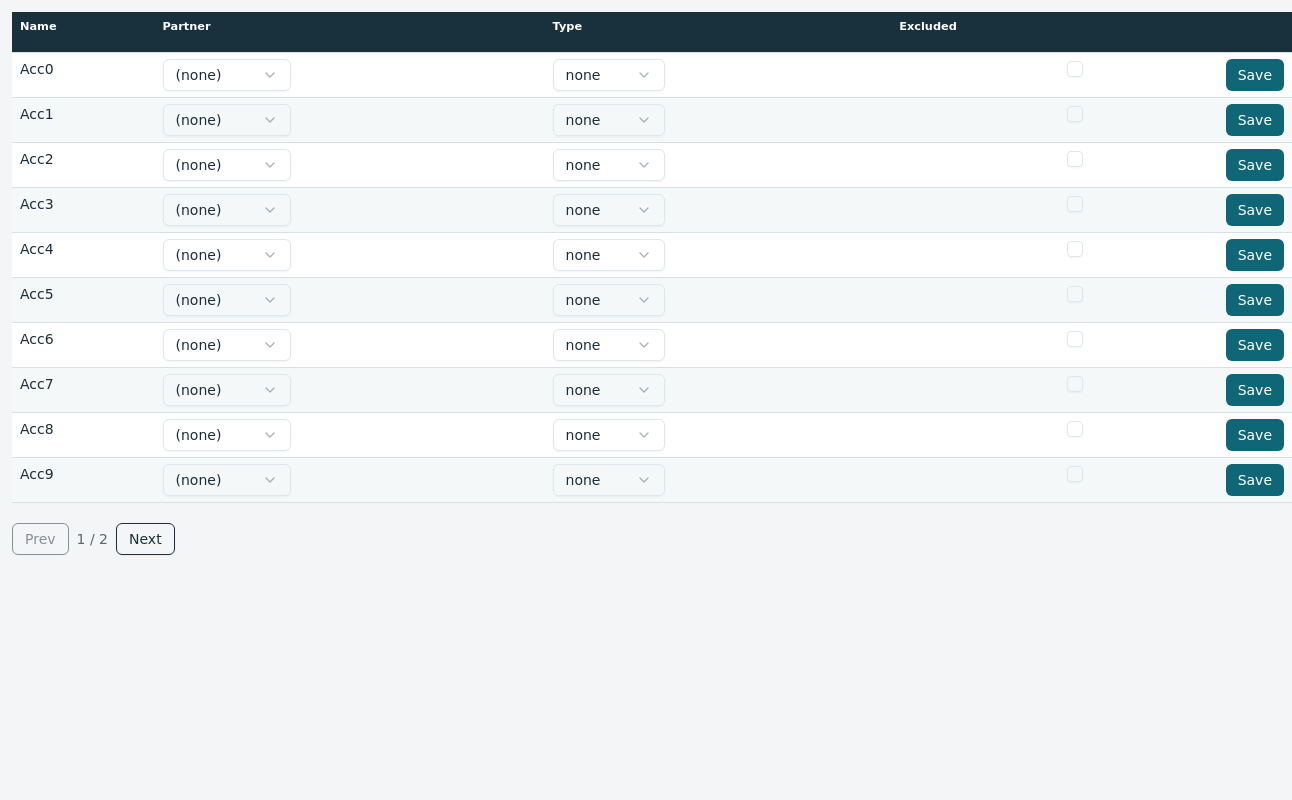
Test: AccountTable — pagination › prev disabled on page 1, next advances
The width and height of the screenshot is (1292, 800).
Check: the text "Acc0" is shown, box top-left (12, 52), bottom-right (154, 97)
Check: the button "Prev" is disabled, box top-left (12, 522), bottom-right (68, 554)
Click the button "Next". click: {"x": 145, "y": 538}
box: top-left (116, 522), bottom-right (175, 554)
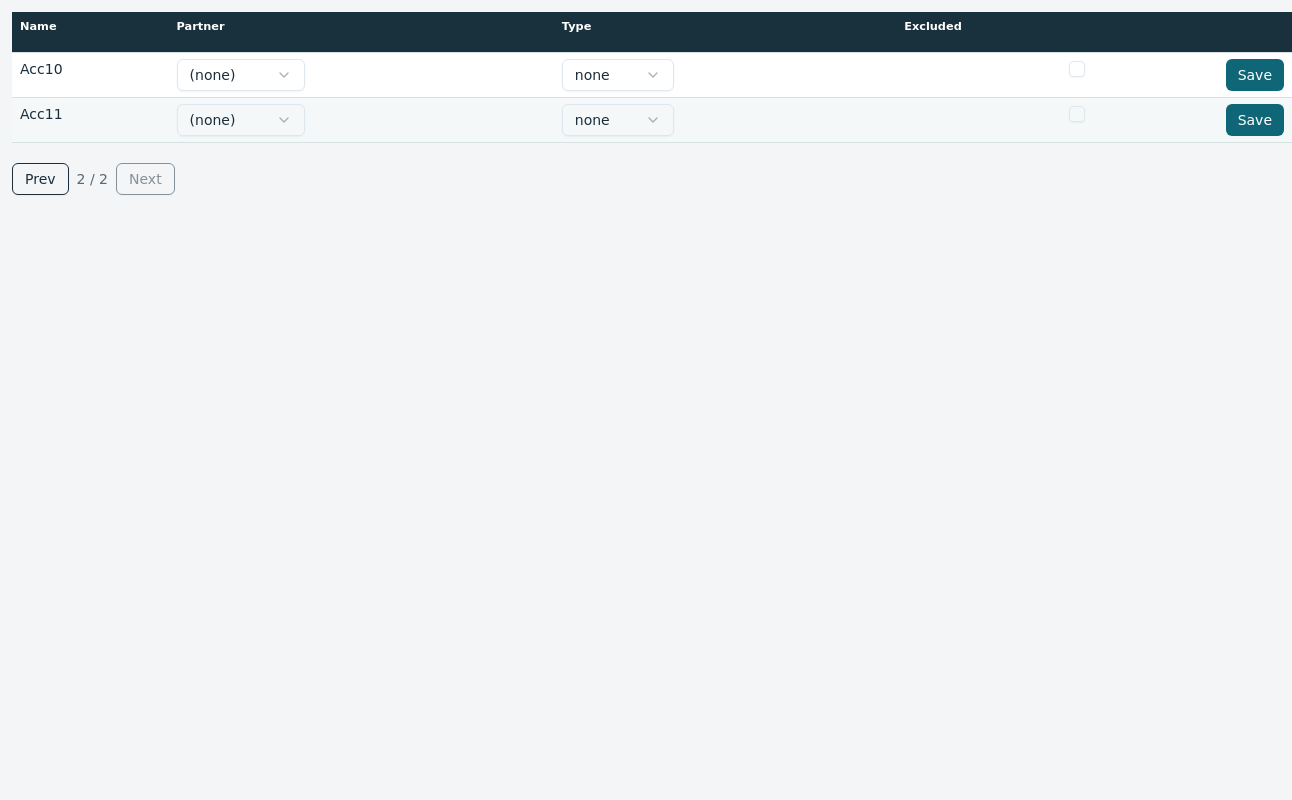
Check: the text "Acc10" is shown, box top-left (12, 52), bottom-right (169, 97)
Check: the text "Acc0" is gone
